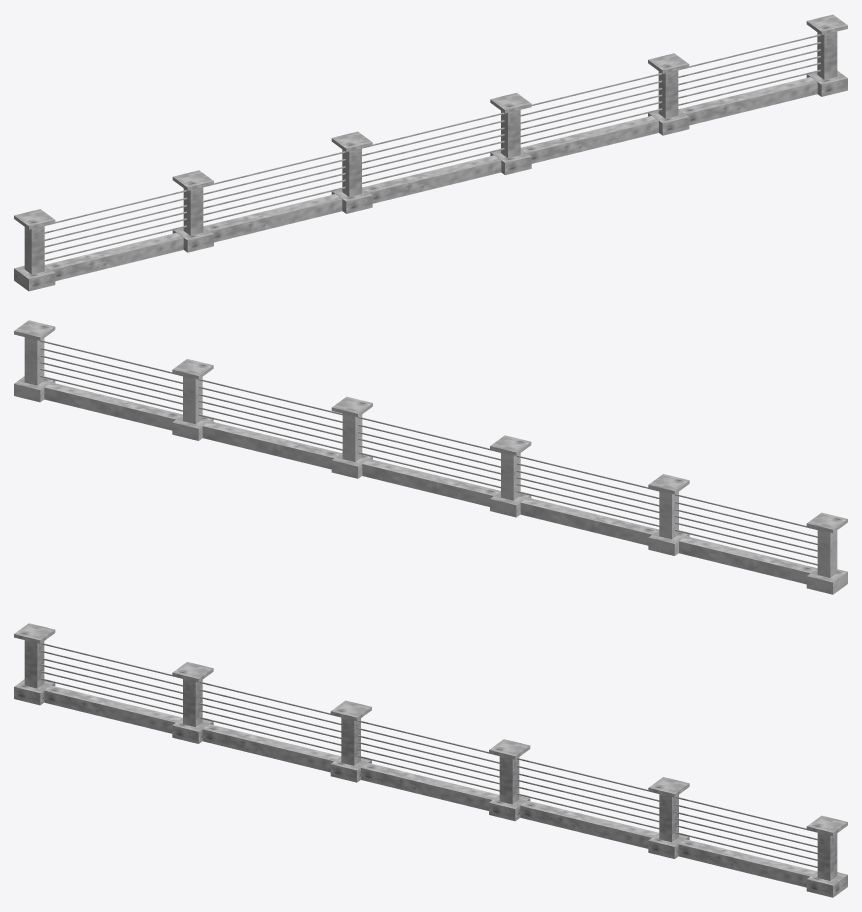
File: Congtruong3.obj
The picture shows the model from 3 angles, top to bottom: view 1: azimuth 30°, elevation 25°; view 2: azimuth 150°, elevation 25°; view 3: azimuth 330°, elevation 25°; orthographic projection.
Visible parts, largest first — view 1: Mesh47 Group47 Group1 H_ng_d_o_ph_i1 Model, Mesh38 Group38 Group1 H_ng_d_o_ph_i1 Model, Mesh21 Group25 Group1 H_ng_d_o_ph_i1 Model, Mesh14 Group17 Group1 H_ng_d_o_ph_i1 Model, Mesh13 Group16 Group1 H_ng_d_o_ph_i1 Model, Mesh36 Group37 Group1 H_ng_d_o_ph_i1 Model, Mesh32 Group35 Group1 H_ng_d_o_ph_i1 Model, Mesh24 Group27 Group1 H_ng_d_o_ph_i1 Model, Mesh22 Group26 Group1 H_ng_d_o_ph_i1 Model, Mesh39 Group39 Group1 H_ng_d_o_ph_i1 Model, Mesh34 Group36 Group1 H_ng_d_o_ph_i1 Model, Mesh23 Group26 Group1 H_ng_d_o_ph_i1 Model (+5 smaller); view 2: Mesh13 Group16 Group1 H_ng_d_o_ph_i1 Model, Mesh14 Group17 Group1 H_ng_d_o_ph_i1 Model, Mesh21 Group25 Group1 H_ng_d_o_ph_i1 Model, Mesh38 Group38 Group1 H_ng_d_o_ph_i1 Model, Mesh47 Group47 Group1 H_ng_d_o_ph_i1 Model, Mesh36 Group37 Group1 H_ng_d_o_ph_i1 Model, Mesh39 Group39 Group1 H_ng_d_o_ph_i1 Model, Mesh24 Group27 Group1 H_ng_d_o_ph_i1 Model, Mesh32 Group35 Group1 H_ng_d_o_ph_i1 Model, Mesh34 Group36 Group1 H_ng_d_o_ph_i1 Model, Mesh22 Group26 Group1 H_ng_d_o_ph_i1 Model, Mesh23 Group26 Group1 H_ng_d_o_ph_i1 Model (+5 smaller); view 3: Mesh14 Group17 Group1 H_ng_d_o_ph_i1 Model, Mesh21 Group25 Group1 H_ng_d_o_ph_i1 Model, Mesh38 Group38 Group1 H_ng_d_o_ph_i1 Model, Mesh13 Group16 Group1 H_ng_d_o_ph_i1 Model, Mesh47 Group47 Group1 H_ng_d_o_ph_i1 Model, Mesh24 Group27 Group1 H_ng_d_o_ph_i1 Model, Mesh39 Group39 Group1 H_ng_d_o_ph_i1 Model, Mesh36 Group37 Group1 H_ng_d_o_ph_i1 Model, Mesh22 Group26 Group1 H_ng_d_o_ph_i1 Model, Mesh32 Group35 Group1 H_ng_d_o_ph_i1 Model, Mesh34 Group36 Group1 H_ng_d_o_ph_i1 Model, Mesh23 Group26 Group1 H_ng_d_o_ph_i1 Model (+5 smaller).
Boxes of the visible parts, bbox=[...] form: Mesh47 Group47 Group1 H_ng_d_o_ph_i1 Model: bbox=[362, 155, 501, 203]; Mesh38 Group38 Group1 H_ng_d_o_ph_i1 Model: bbox=[45, 232, 183, 281]; Mesh21 Group25 Group1 H_ng_d_o_ph_i1 Model: bbox=[679, 77, 817, 125]; Mesh14 Group17 Group1 H_ng_d_o_ph_i1 Model: bbox=[203, 194, 342, 242]; Mesh13 Group16 Group1 H_ng_d_o_ph_i1 Model: bbox=[520, 115, 658, 163]; Mesh36 Group37 Group1 H_ng_d_o_ph_i1 Model: bbox=[14, 226, 55, 291]; Mesh32 Group35 Group1 H_ng_d_o_ph_i1 Model: bbox=[172, 187, 213, 252]; Mesh24 Group27 Group1 H_ng_d_o_ph_i1 Model: bbox=[806, 31, 847, 96]; Mesh22 Group26 Group1 H_ng_d_o_ph_i1 Model: bbox=[648, 70, 689, 135]; Mesh39 Group39 Group1 H_ng_d_o_ph_i1 Model: bbox=[490, 110, 531, 175]; Mesh34 Group36 Group1 H_ng_d_o_ph_i1 Model: bbox=[331, 148, 372, 213]; Mesh23 Group26 Group1 H_ng_d_o_ph_i1 Model: bbox=[648, 53, 689, 73]; Mesh13 Group16 Group1 H_ng_d_o_ph_i1 Model: bbox=[202, 421, 340, 469]; Mesh14 Group17 Group1 H_ng_d_o_ph_i1 Model: bbox=[520, 497, 658, 545]; Mesh21 Group25 Group1 H_ng_d_o_ph_i1 Model: bbox=[44, 382, 182, 430]; Mesh38 Group38 Group1 H_ng_d_o_ph_i1 Model: bbox=[679, 536, 817, 584]; Mesh47 Group47 Group1 H_ng_d_o_ph_i1 Model: bbox=[362, 459, 500, 506]; Mesh36 Group37 Group1 H_ng_d_o_ph_i1 Model: bbox=[806, 529, 847, 594]; Mesh39 Group39 Group1 H_ng_d_o_ph_i1 Model: bbox=[331, 414, 372, 478]; Mesh24 Group27 Group1 H_ng_d_o_ph_i1 Model: bbox=[14, 337, 55, 402]; Mesh32 Group35 Group1 H_ng_d_o_ph_i1 Model: bbox=[648, 491, 689, 555]; Mesh34 Group36 Group1 H_ng_d_o_ph_i1 Model: bbox=[490, 452, 531, 517]; Mesh22 Group26 Group1 H_ng_d_o_ph_i1 Model: bbox=[172, 376, 213, 440]; Mesh23 Group26 Group1 H_ng_d_o_ph_i1 Model: bbox=[172, 359, 213, 379]; Mesh14 Group17 Group1 H_ng_d_o_ph_i1 Model: bbox=[202, 724, 340, 772]; Mesh21 Group25 Group1 H_ng_d_o_ph_i1 Model: bbox=[678, 839, 816, 887]; Mesh38 Group38 Group1 H_ng_d_o_ph_i1 Model: bbox=[44, 685, 182, 733]; Mesh13 Group16 Group1 H_ng_d_o_ph_i1 Model: bbox=[520, 800, 658, 848]; Mesh47 Group47 Group1 H_ng_d_o_ph_i1 Model: bbox=[361, 763, 498, 810]; Mesh24 Group27 Group1 H_ng_d_o_ph_i1 Model: bbox=[806, 832, 847, 897]; Mesh39 Group39 Group1 H_ng_d_o_ph_i1 Model: bbox=[489, 756, 530, 821]; Mesh36 Group37 Group1 H_ng_d_o_ph_i1 Model: bbox=[14, 640, 55, 705]; Mesh22 Group26 Group1 H_ng_d_o_ph_i1 Model: bbox=[648, 794, 689, 858]; Mesh32 Group35 Group1 H_ng_d_o_ph_i1 Model: bbox=[172, 679, 213, 743]; Mesh34 Group36 Group1 H_ng_d_o_ph_i1 Model: bbox=[330, 717, 371, 782]; Mesh23 Group26 Group1 H_ng_d_o_ph_i1 Model: bbox=[648, 777, 689, 797].
Size of the model in its own units: 23595 by 1792 by 797.
1 material, 1 textured.
